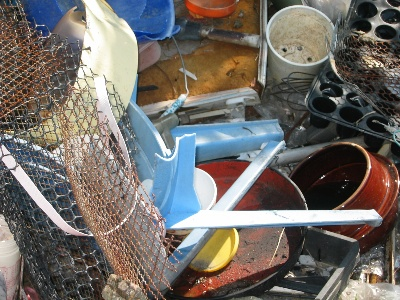bowl: (291, 141, 400, 252)
box: (305, 61, 400, 157), (346, 1, 400, 43)
bucket: (266, 4, 337, 82)
plate: (168, 158, 309, 300), (188, 227, 238, 275)
